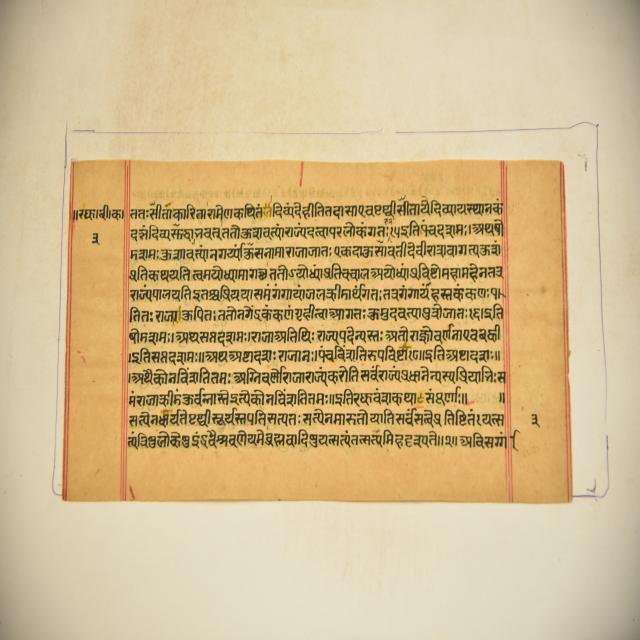text_paragraph: (62, 162, 569, 500)
